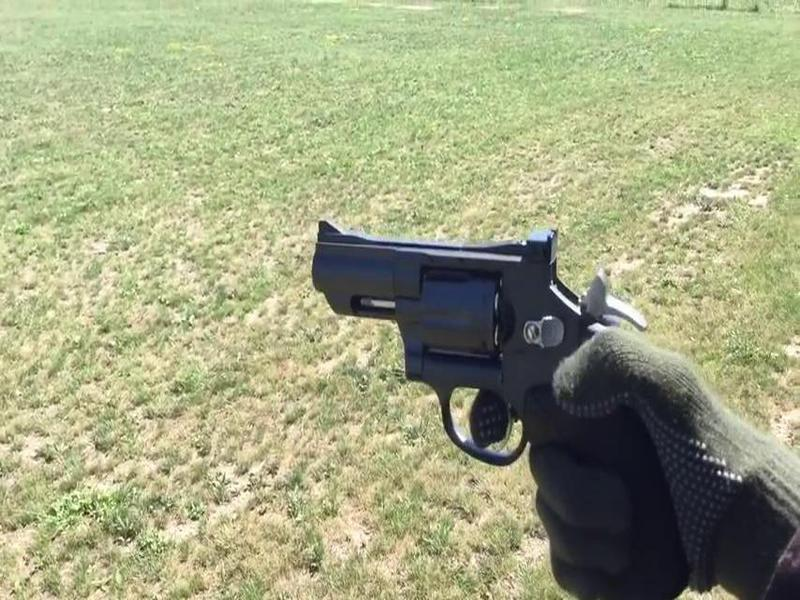Revolver: (271, 196, 709, 597)
